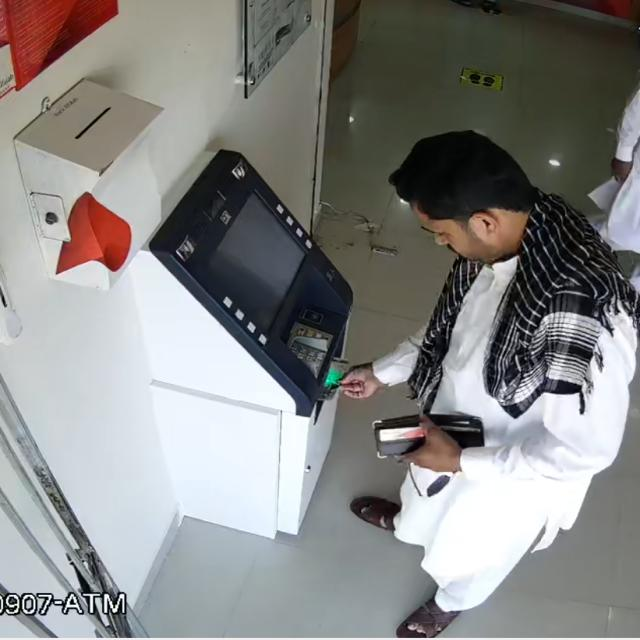note: (307, 350, 365, 402)
